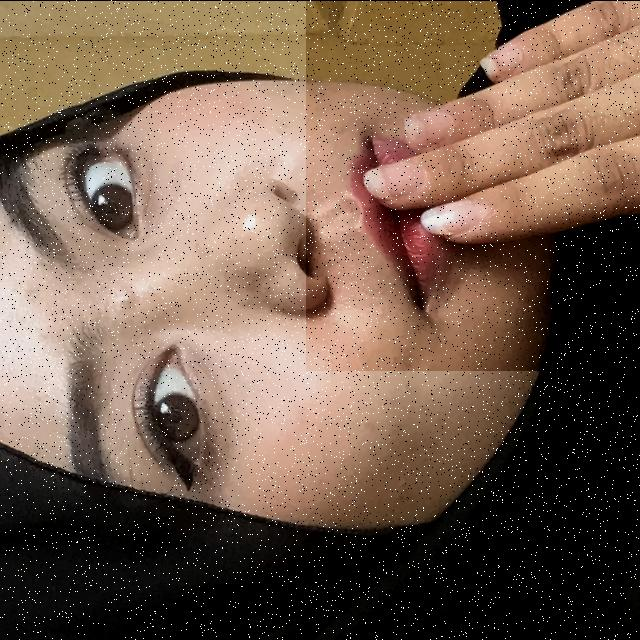ganteng: (306, 0, 640, 370)
